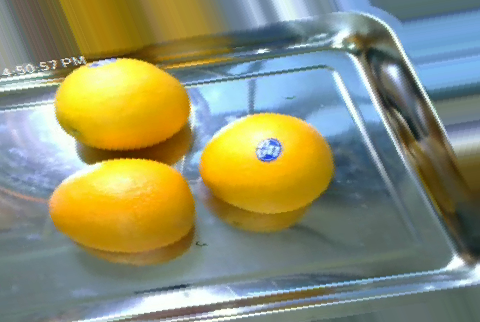Orange: (48, 158, 196, 253), (199, 112, 335, 212), (54, 57, 190, 150)
